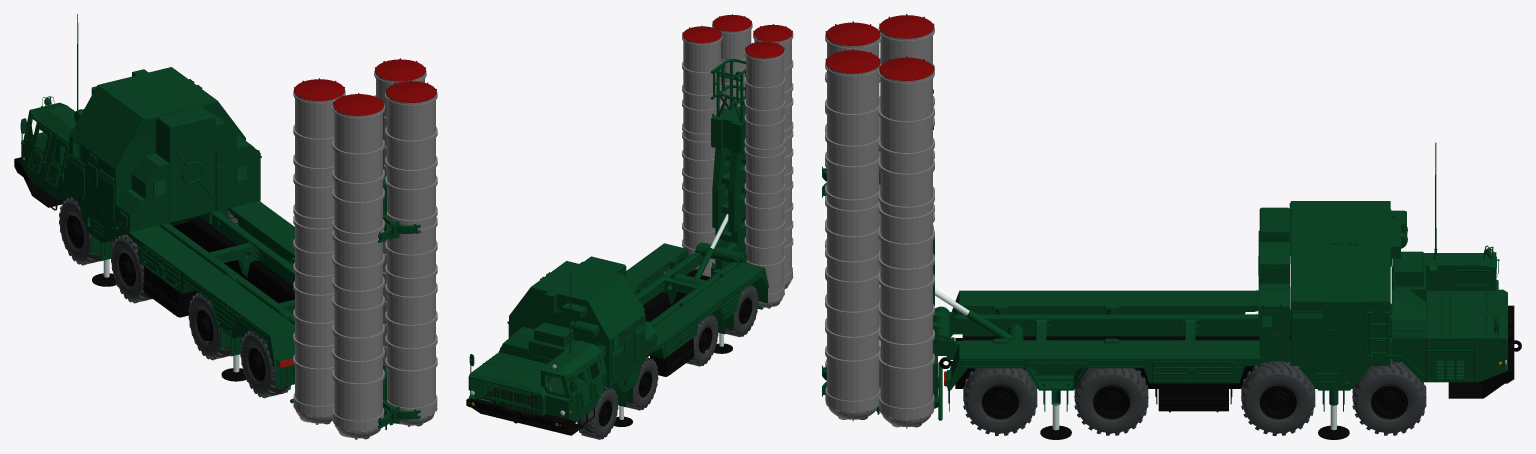
File: coloredModel.fbx
3 views of the same model, side by side, from view 1: azimuth 30°, elevation 25°; view 2: azimuth 150°, elevation 25°; view 3: azimuth 270°, elevation 25° (orthographic). The views are drawn at different scales.
Parts seen in each view (by area): view 1: Anti-aircraft missile system S-300 все ТПК, Anti-aircraft missile system S-300 Favorit.1543(осн), Anti-aircraft missile system S-300 Favorit.колеса, Anti-aircraft missile system S-300 домкраты (верх), Anti-aircraft missile system S-300 КЧ, Anti-aircraft missile system S-300 домкраты (низ); view 2: Anti-aircraft missile system S-300 Favorit.1543(осн), Anti-aircraft missile system S-300 все ТПК, Anti-aircraft missile system S-300 КЧ, Anti-aircraft missile system S-300 Favorit.колеса, Anti-aircraft missile system S-300 домкраты (верх), Anti-aircraft missile system S-300 домкраты (низ), Anti-aircraft missile system S-300 ГЦ под/опуск КЧ; view 3: Anti-aircraft missile system S-300 Favorit.1543(осн), Anti-aircraft missile system S-300 все ТПК, Anti-aircraft missile system S-300 Favorit.колеса, Anti-aircraft missile system S-300 домкраты (верх), Anti-aircraft missile system S-300 КЧ, Anti-aircraft missile system S-300 домкраты (низ).
Boxes of the visible parts, box(x1,y1,x2,y2) form: Anti-aircraft missile system S-300 все ТПК: box(293, 58, 437, 439); Anti-aircraft missile system S-300 Favorit.1543(осн): box(14, 14, 294, 388); Anti-aircraft missile system S-300 Favorit.колеса: box(59, 197, 291, 398); Anti-aircraft missile system S-300 домкраты (верх): box(79, 203, 250, 380); Anti-aircraft missile system S-300 КЧ: box(290, 114, 420, 429); Anti-aircraft missile system S-300 домкраты (низ): box(92, 259, 246, 381); Anti-aircraft missile system S-300 Favorit.1543(осн): box(466, 242, 768, 435); Anti-aircraft missile system S-300 все ТПК: box(682, 14, 793, 308); Anti-aircraft missile system S-300 КЧ: box(707, 59, 763, 309); Anti-aircraft missile system S-300 Favorit.колеса: box(503, 268, 758, 439); Anti-aircraft missile system S-300 домкраты (верх): box(616, 273, 741, 407); Anti-aircraft missile system S-300 домкраты (низ): box(613, 333, 732, 426); Anti-aircraft missile system S-300 ГЦ под/опуск КЧ: box(675, 247, 713, 285); Anti-aircraft missile system S-300 Favorit.1543(осн): box(933, 142, 1521, 412); Anti-aircraft missile system S-300 все ТПК: box(825, 14, 934, 428); Anti-aircraft missile system S-300 Favorit.колеса: box(963, 309, 1426, 435); Anti-aircraft missile system S-300 домкраты (верх): box(1025, 365, 1369, 411); Anti-aircraft missile system S-300 КЧ: box(822, 77, 950, 420); Anti-aircraft missile system S-300 домкраты (низ): box(1040, 404, 1349, 439).
Bounding box in the file's own units: 9689 × 22692 × 39678.
